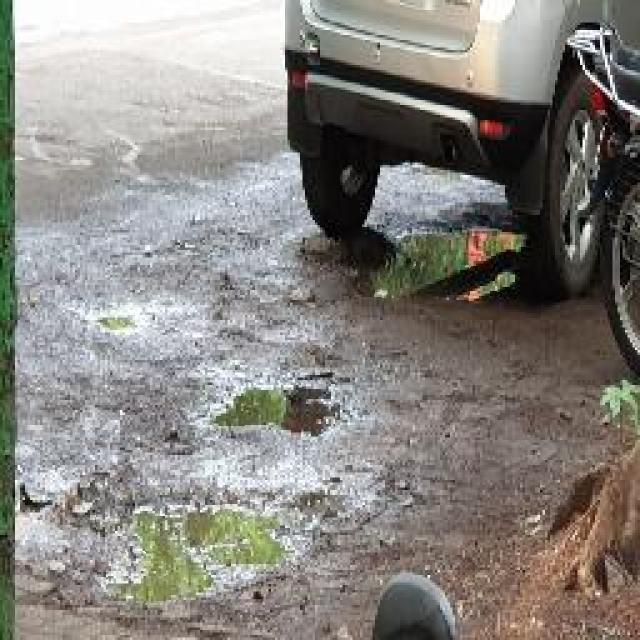puddle: (338, 216, 544, 318), (97, 501, 293, 604), (214, 383, 336, 441)
